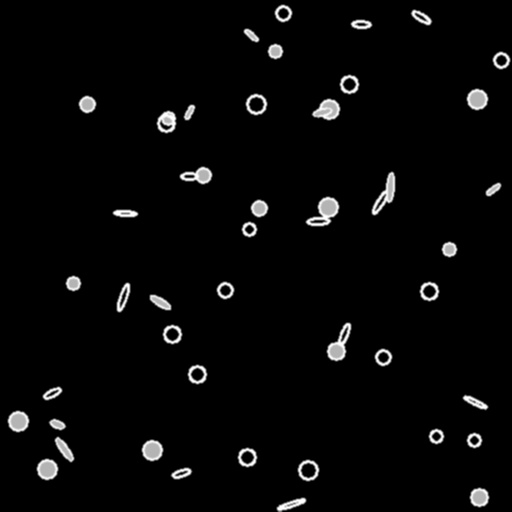pseudomonas: (370, 189, 390, 215), (54, 436, 74, 462), (115, 283, 131, 311), (149, 293, 171, 311), (277, 497, 305, 511), (463, 394, 487, 410), (411, 9, 431, 25), (337, 323, 351, 345), (42, 386, 62, 400), (385, 173, 395, 201), (171, 467, 191, 479), (243, 28, 259, 42), (485, 182, 501, 196), (183, 104, 195, 120), (49, 418, 65, 430), (306, 217, 330, 225), (313, 107, 331, 117), (351, 20, 371, 28), (114, 210, 136, 216), (181, 173, 197, 179)
synechocystis: (320, 100, 338, 118), (38, 460, 56, 478), (9, 412, 27, 430), (143, 441, 161, 459), (468, 90, 486, 108), (319, 198, 337, 216), (299, 461, 317, 479), (247, 95, 265, 113), (164, 326, 180, 342), (239, 449, 255, 465), (421, 283, 437, 299), (341, 76, 357, 92), (189, 366, 205, 382), (471, 489, 487, 505), (158, 115, 174, 131), (328, 343, 344, 359), (376, 350, 390, 364), (252, 201, 266, 215), (276, 6, 290, 20), (80, 97, 94, 111), (196, 168, 210, 182), (494, 53, 508, 67), (218, 283, 232, 297), (269, 45, 281, 57), (430, 430, 442, 442), (243, 223, 255, 235), (67, 277, 79, 289), (162, 112, 174, 124), (443, 243, 455, 255), (468, 434, 480, 446)
